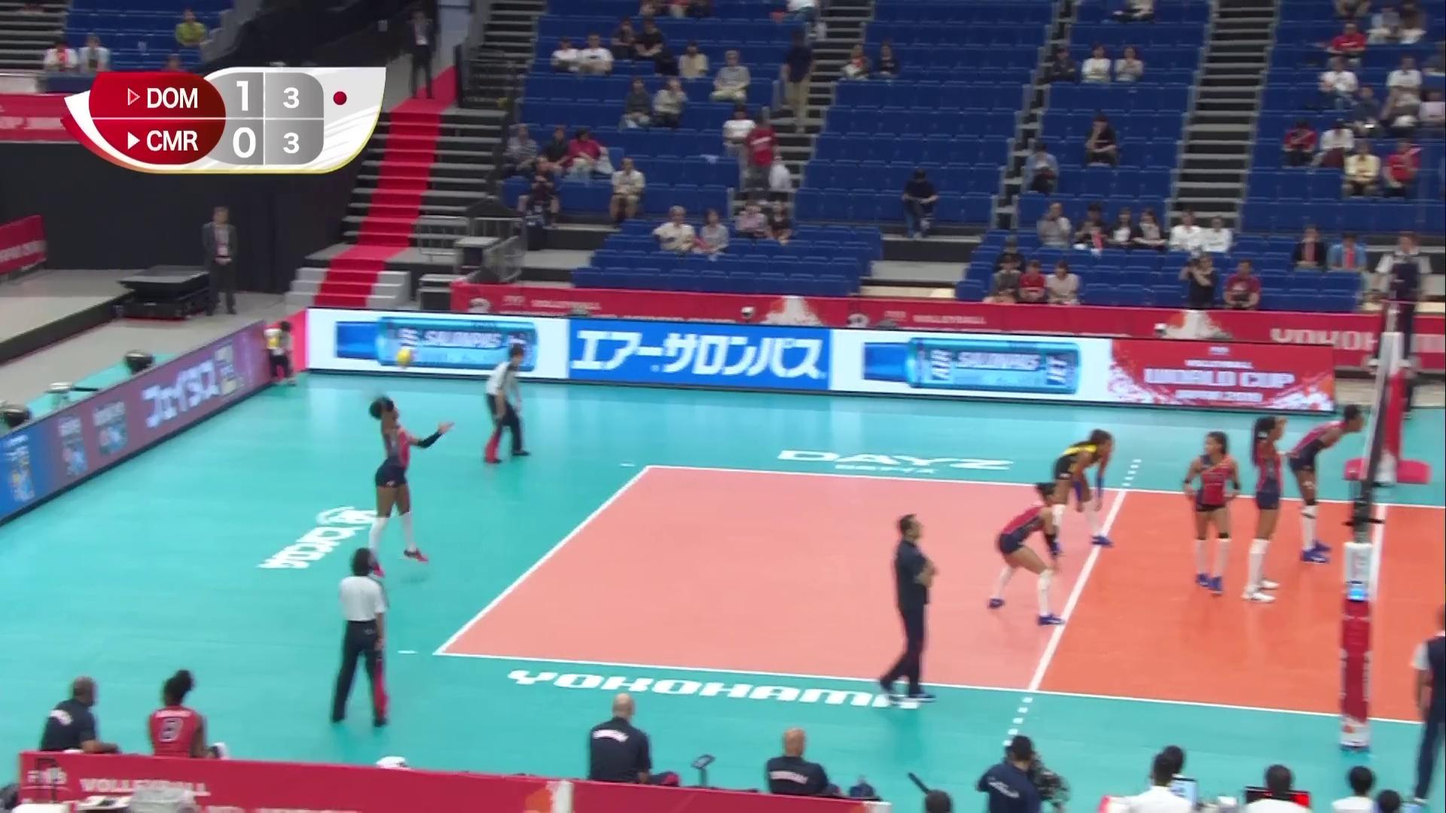player: (363, 398, 449, 572), (1288, 405, 1365, 564), (985, 481, 1068, 624), (1237, 415, 1288, 604), (1182, 432, 1240, 596), (1044, 430, 1114, 550)
refree: (329, 550, 393, 728), (1409, 601, 1446, 805), (1375, 234, 1429, 361), (484, 343, 533, 466)
